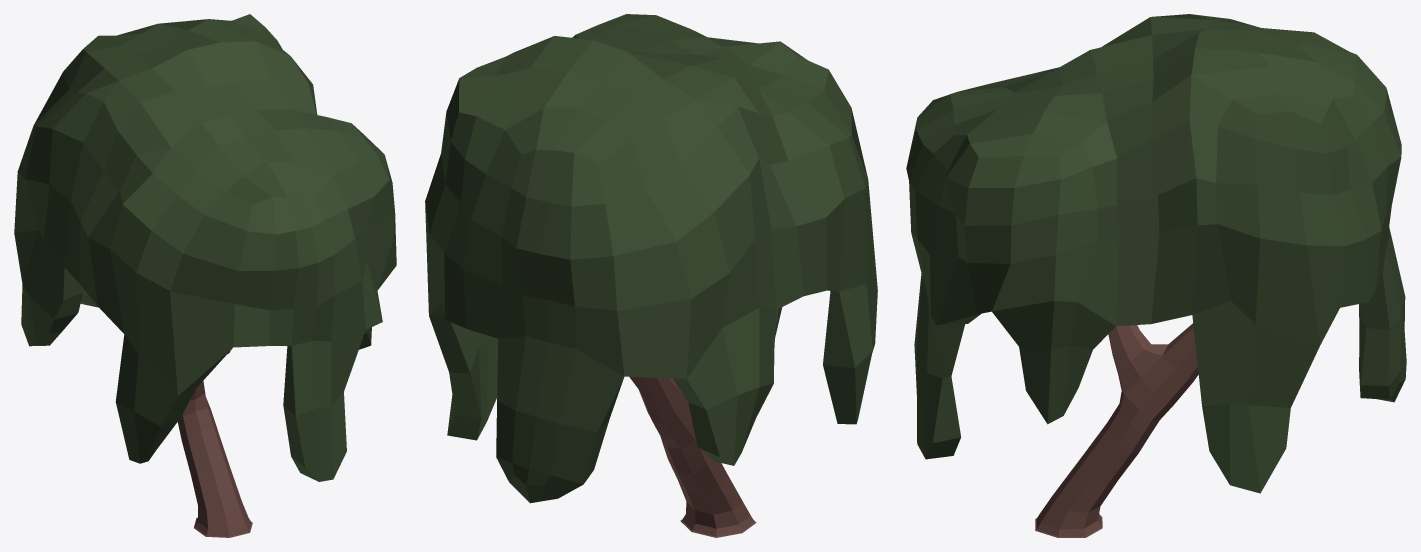
The model's file is willow4.glb.
3 renders of one model, left to right at view 1: azimuth 30°, elevation 25°; view 2: azimuth 150°, elevation 25°; view 3: azimuth 270°, elevation 25°, orthographic. The views are drawn at different scales.
Parts seen in each view (by area): view 1: Willow_4; view 2: Willow_4; view 3: Willow_4.
Part boxes in pixels (x1=…): Willow_4: x1=14, y1=14, x2=396, y2=537; Willow_4: x1=425, y1=14, x2=877, y2=537; Willow_4: x1=906, y1=14, x2=1406, y2=537.
Bounding box in the file's own units: 2.19 × 3.39 × 3.04.
